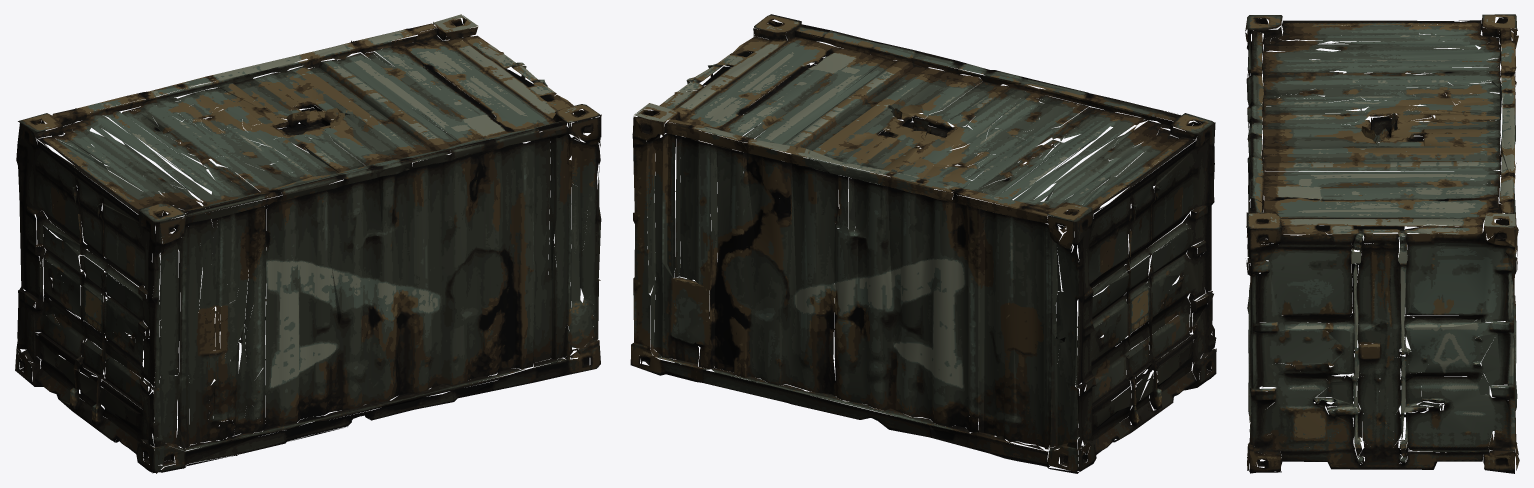
The model's file is yd_container_0.glb.
The picture shows the model from 3 angles, left to right: view 1: azimuth 30°, elevation 25°; view 2: azimuth 150°, elevation 25°; view 3: azimuth 270°, elevation 25°; orthographic projection. The views are drawn at different scales.
Visible parts, largest first — view 1: yd_container_0; view 2: yd_container_0; view 3: yd_container_0.
Boxes of the visible parts, x1=… form: yd_container_0: x1=15, y1=14, x2=601, y2=473; yd_container_0: x1=630, y1=14, x2=1216, y2=473; yd_container_0: x1=1245, y1=14, x2=1519, y2=473.
Size of the model in its own units: 5.21 by 2.89 by 2.81.
1 material, 1 textured.
